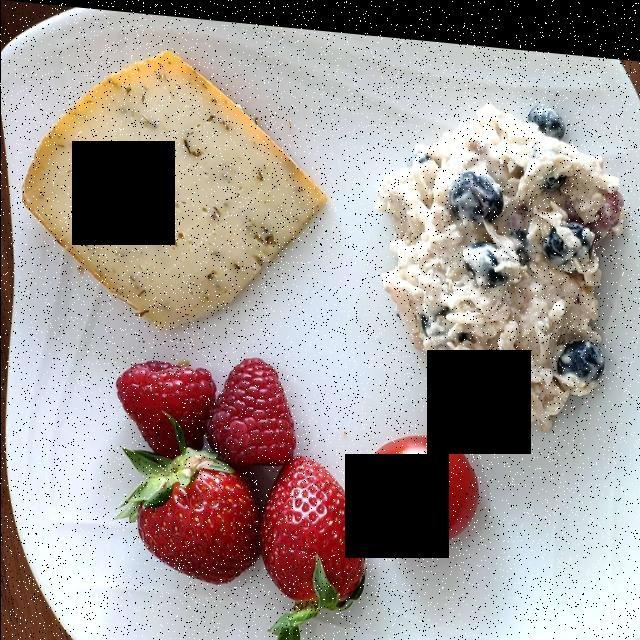birchermuesli: (381, 102, 617, 418)
cheese: (21, 50, 321, 322)
raspberries: (115, 347, 296, 470)
strawberries: (125, 435, 366, 607)
tomato: (368, 429, 476, 532)
